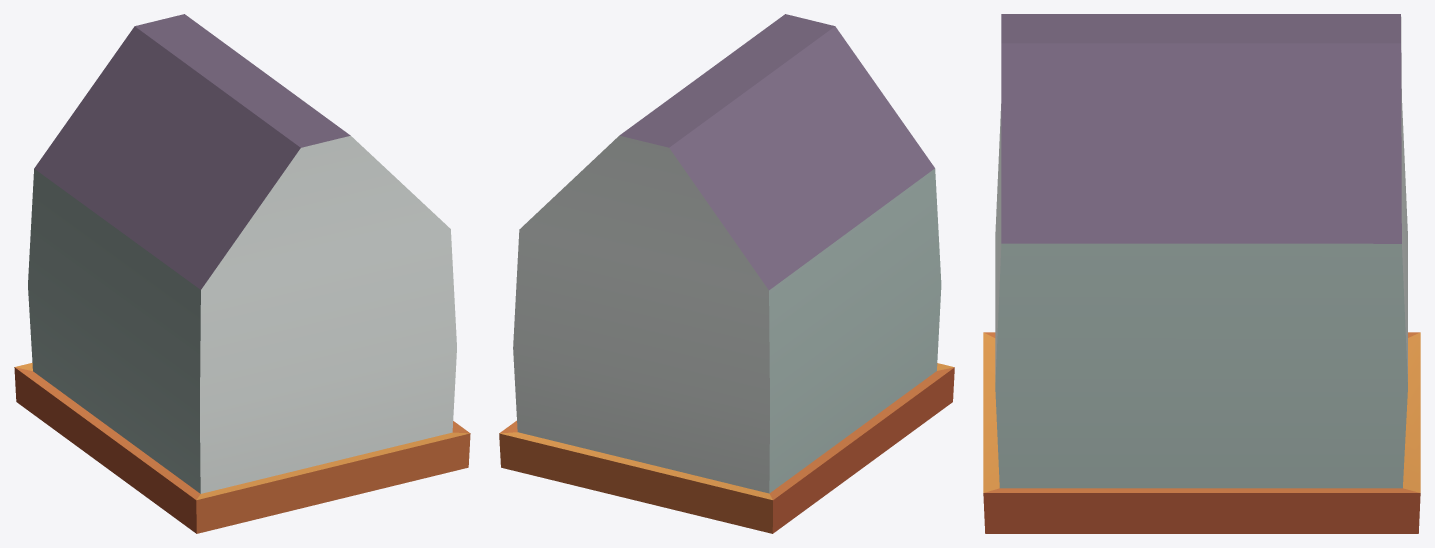
The model's file is House01_White_Wood.glb.
3 views of the same model, side by side, from view 1: azimuth 30°, elevation 25°; view 2: azimuth 150°, elevation 25°; view 3: azimuth 270°, elevation 25° (orthographic). The views are drawn at different scales.
Parts seen in each view (by area): view 1: House01_White_Wood; view 2: House01_White_Wood; view 3: House01_White_Wood.
Part boxes in pixels (x1,y1,x2,y2): House01_White_Wood: (14, 14, 470, 533); House01_White_Wood: (499, 14, 954, 533); House01_White_Wood: (983, 14, 1420, 533).
Size of the model in its own units: 2.04 by 2.51 by 2.34.
Materials: 1 (1 with a texture image).
